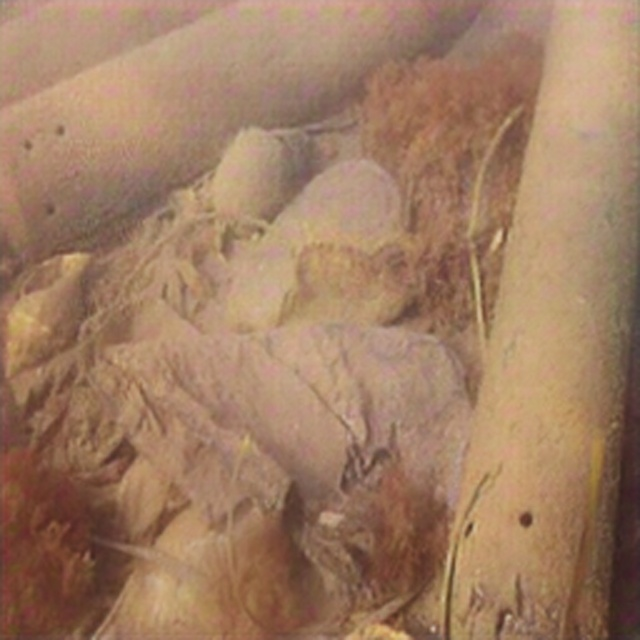mine: (0, 0, 481, 260), (449, 0, 639, 639)
